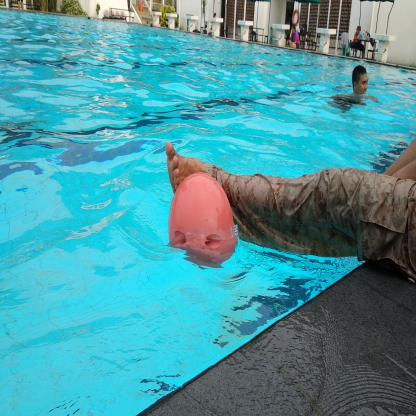red_buoy: (166, 173, 238, 269)
